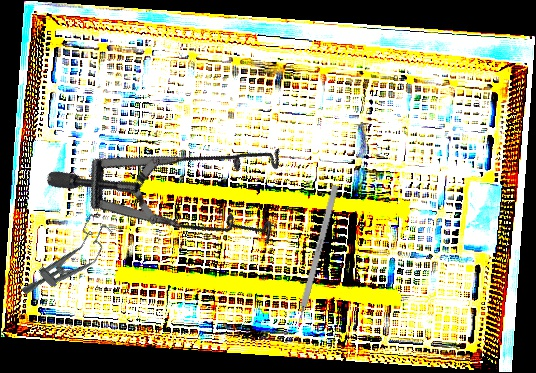Hook Surgical: (292, 184, 339, 337)
Speculum: (41, 45, 319, 313), (15, 209, 122, 312)
